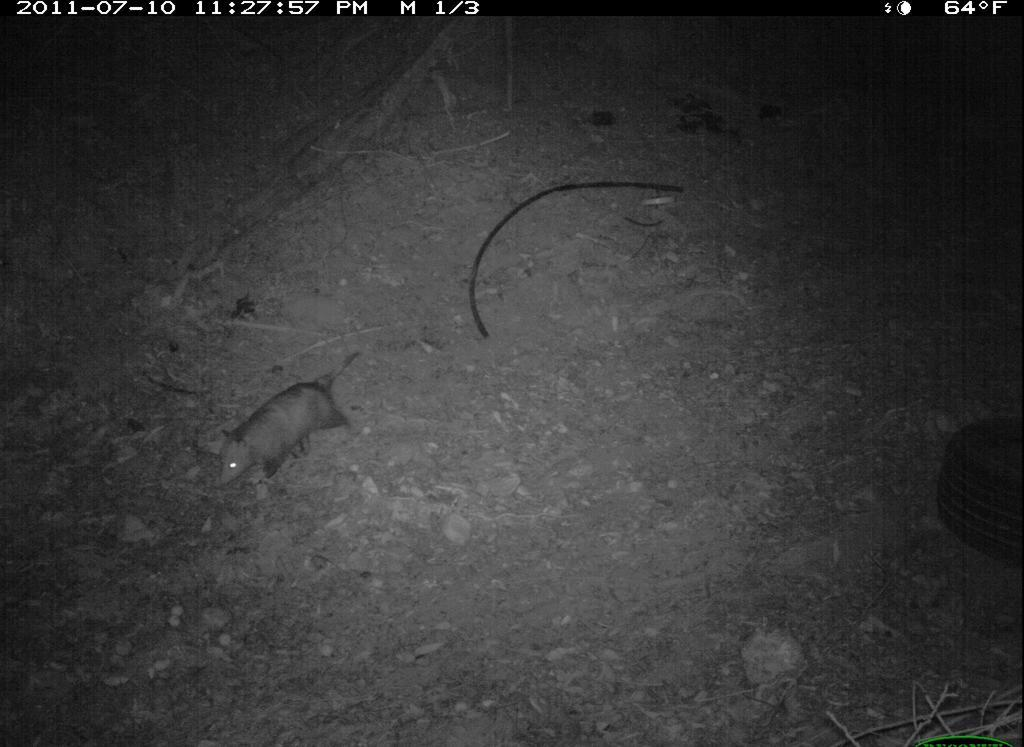opossum: (200, 335, 377, 501)
